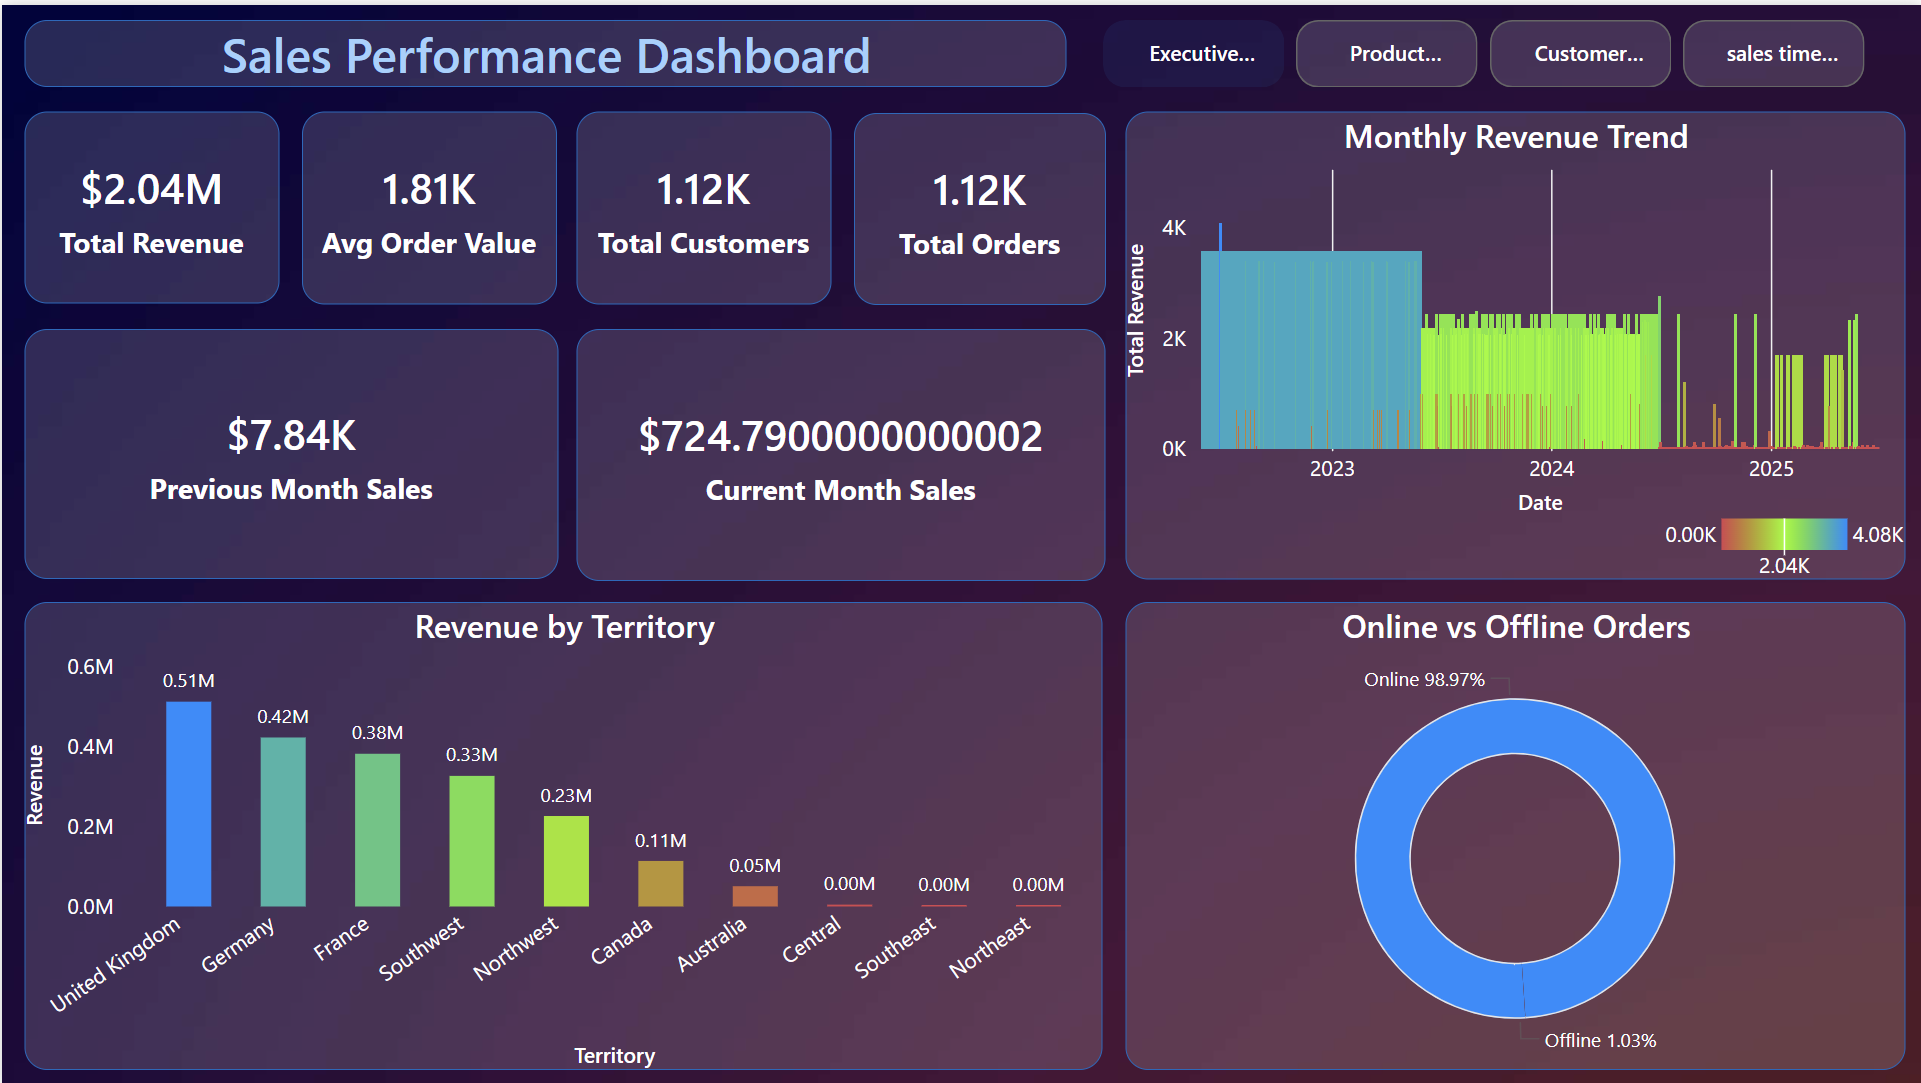

Layout of this report page (visuals, bound fields, positions):
{"tool":"powerbi","page":{"name":"Executive Summary","canvas":[1280,720],"ordinal":0},"visuals":[{"type":"card","title":"Total_Revenue","fields":{"Values":["Customer_view.Total Revenue"]},"box":[15,71,170,128],"z":0},{"type":"card","title":"Total_Revenue","fields":{"Values":["Customer_view.Total Orders"]},"box":[568,72,168,128],"z":1000},{"type":"card","title":"Total_Revenue","fields":{"Values":["Customer_view.Total Customers"]},"box":[383,71,170,129],"z":2000},{"type":"card","title":"Total_Revenue","fields":{"Values":["Customer_view.Avg Order Value"]},"box":[200,71,170.3,129],"z":3000},{"type":"columnChart","fields":{"Category":["Territory_view.Territory"],"Y":["Customer_view.Total Revenue"]},"box":[15,398,719,312],"z":4000},{"type":"textbox","title":"Sales Performance Dashboard","box":[15,10,695,45.4],"z":5000},{"type":"clusteredColumnChart","title":"Monthly Revenue Trend ","fields":{"Category":["DateTable.Date.Variation.Date Hierarchy.Month"],"Y":["Customer_view.Total Revenue"]},"box":[749,71,520,312],"z":6000},{"type":"donutChart","title":"Online vs Offline Orders","fields":{"Category":["Sales_view.Order Type"],"Y":["Customer_view.Total Revenue"]},"box":[749,398,520,312],"z":7000},{"type":"card","fields":{"Values":["Sales_view.Current Month Sales"]},"box":[383.1,216.4,352.5,167.7],"z":8000},{"type":"card","fields":{"Values":["Sales_view.Previous Month Sales"]},"box":[15.3,216.4,355.2,166.8],"z":9000},{"type":"pageNavigator","box":[734,10,510,45],"z":10000}]}

Visuals, with their boxes in screenshot pixels (x1, y1, x2, y2), scaled from the page's 1280x720 canvas onto the 1921x1083 screenshot:
"Total_Revenue" card: 23,107,278,299
"Total_Revenue" card: 852,108,1105,301
"Total_Revenue" card: 575,107,830,301
"Total_Revenue" card: 300,107,556,301
columnChart - Territory_view.Territory x Customer_view.Total Revenue: 23,599,1102,1068
"Sales Performance Dashboard" textbox: 23,15,1066,83
"Monthly Revenue Trend " clusteredColumnChart: 1124,107,1904,576
"Online vs Offline Orders" donutChart: 1124,599,1904,1068
card - Sales_view.Current Month Sales: 575,326,1104,578
card - Sales_view.Previous Month Sales: 23,326,556,576
pageNavigator: 1102,15,1867,83
